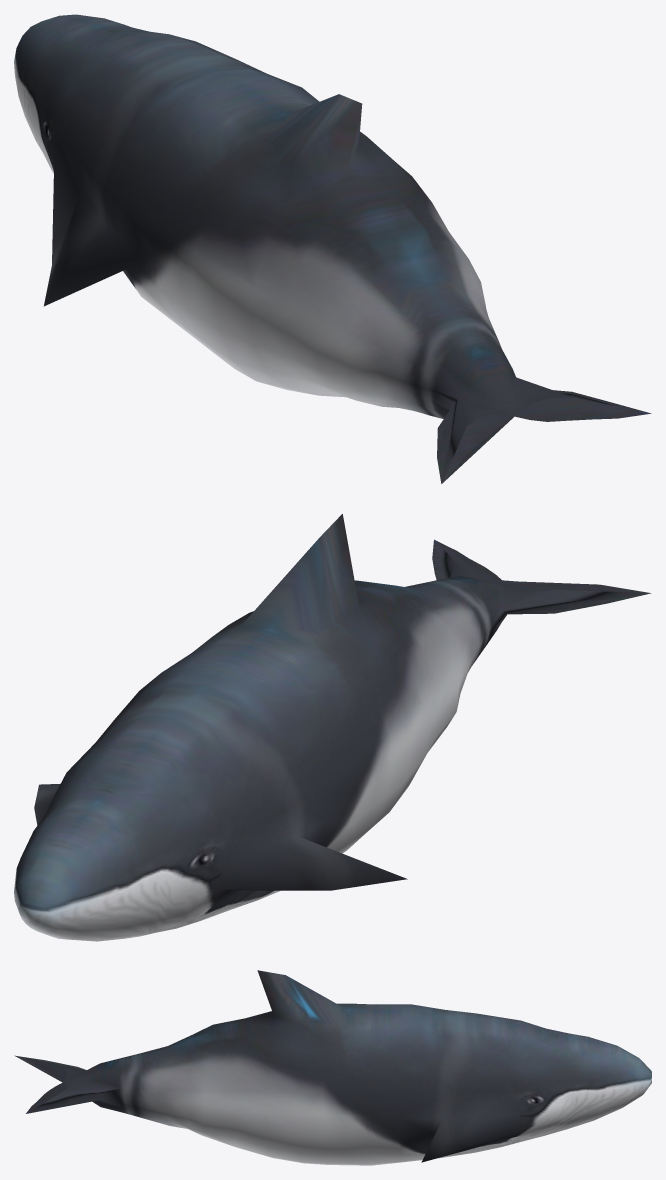
File: MinkWhale.fbx
The picture shows the model from 3 angles, top to bottom: view 1: azimuth 30°, elevation 25°; view 2: azimuth 150°, elevation 25°; view 3: azimuth 270°, elevation 25°; orthographic projection. The views are drawn at different scales.
Visible parts, largest first — view 1: Whale; view 2: Whale; view 3: Whale.
Part boxes in pixels (x1=…): Whale: x1=14, y1=14, x2=651, y2=483; Whale: x1=14, y1=514, x2=650, y2=941; Whale: x1=14, y1=970, x2=651, y2=1165.
Bounding box in the file's own units: 9.28 × 7.43 × 22.63.
1 material, 1 textured.
